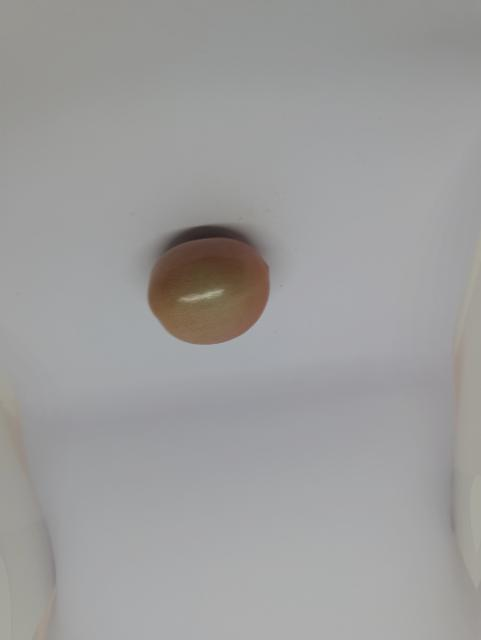turning: (141, 220, 283, 355)
